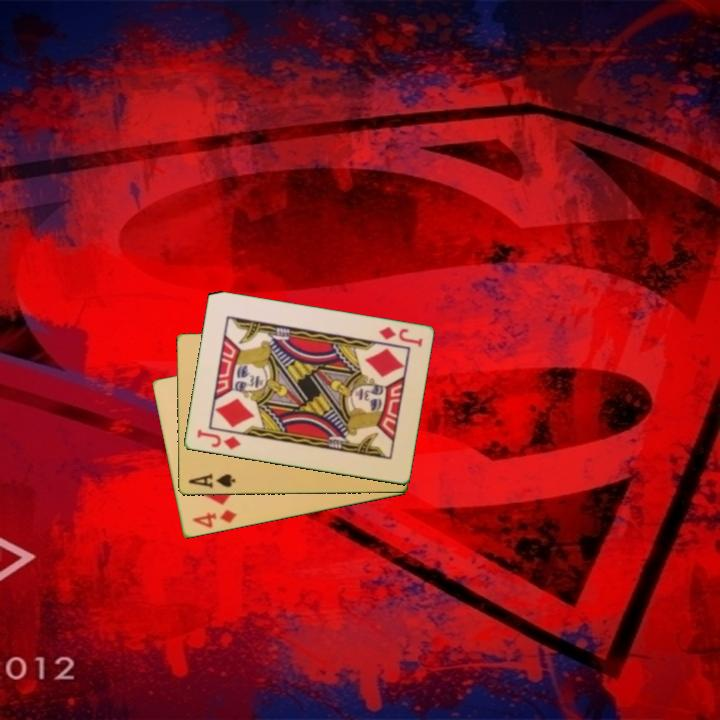4d: (189, 506, 240, 531)
As: (185, 470, 238, 491)
Jd: (193, 426, 243, 453), (375, 323, 425, 350)
